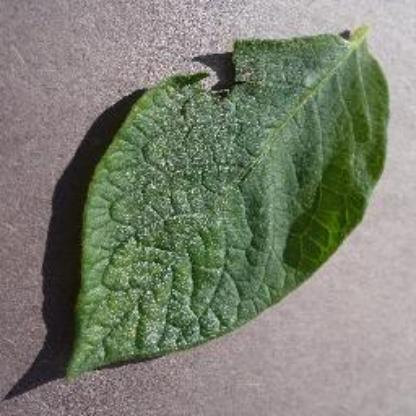Healthy-plant: (46, 22, 394, 380)
